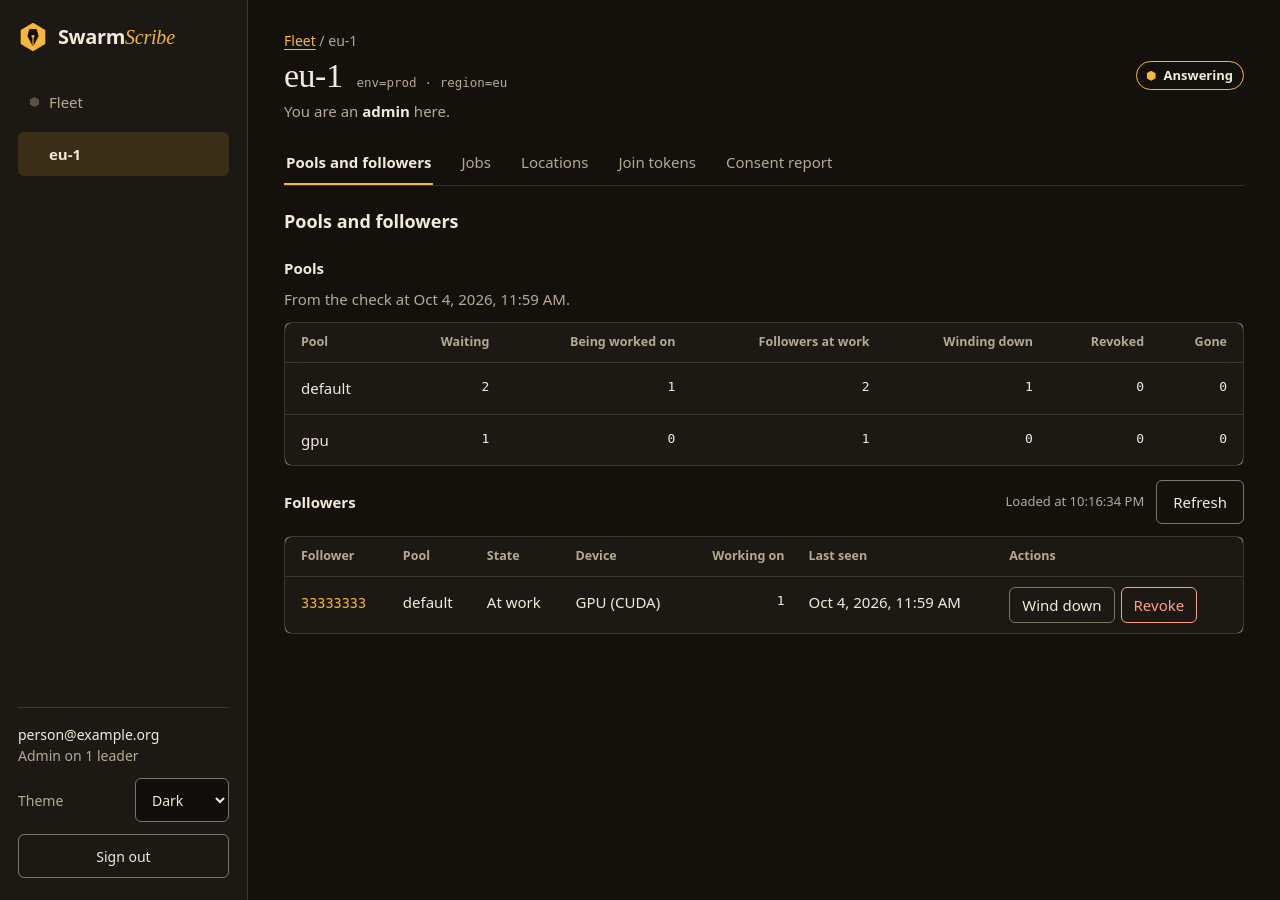
Test case: pools and followers tab › says one job, not 1 jobs, when a revoked follower held one
Click the button with aria-label "Revoke follower 33333333" at (1159, 605), box [1120,587,1197,623]
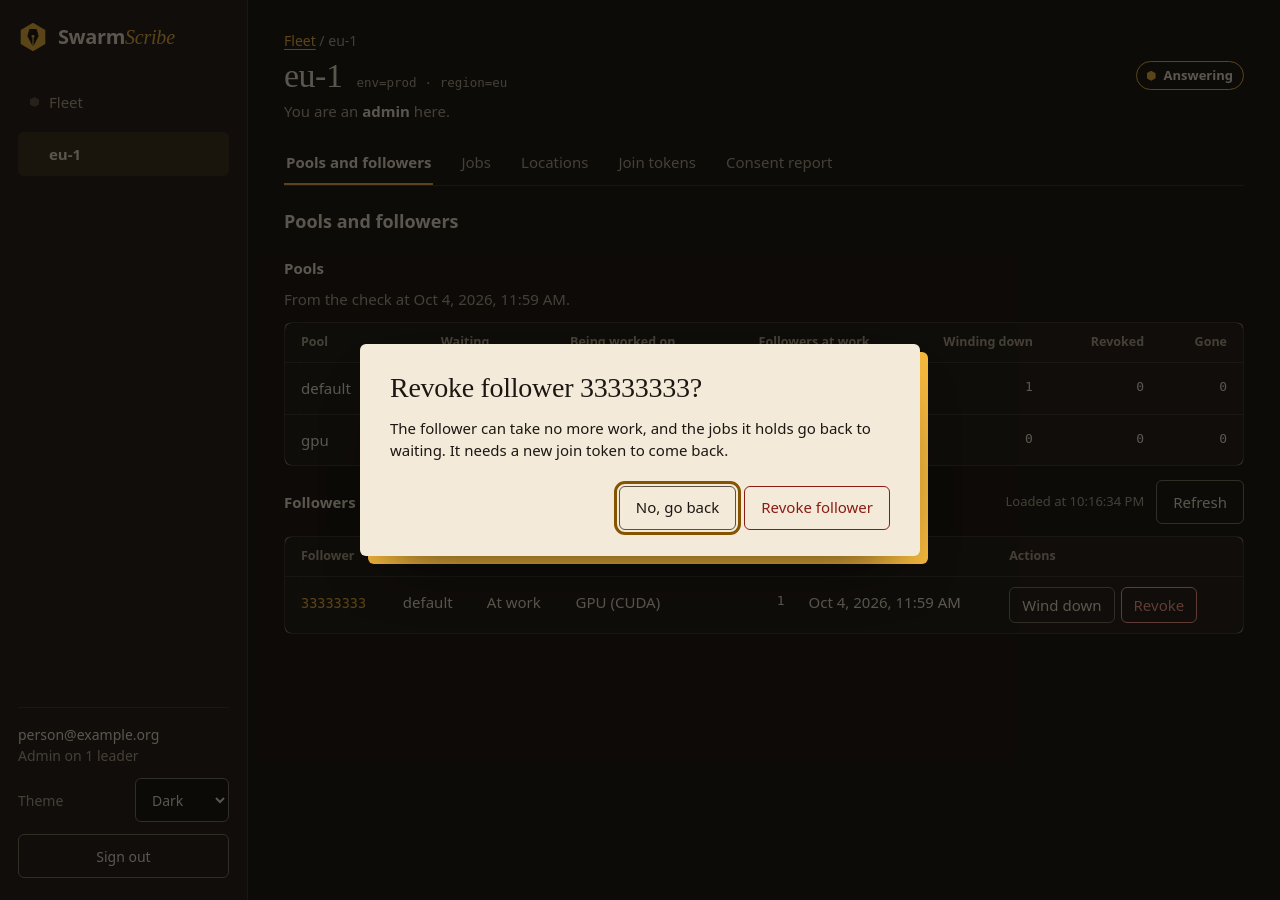
Click the button "Revoke follower" at (817, 508), box [744,486,890,530]
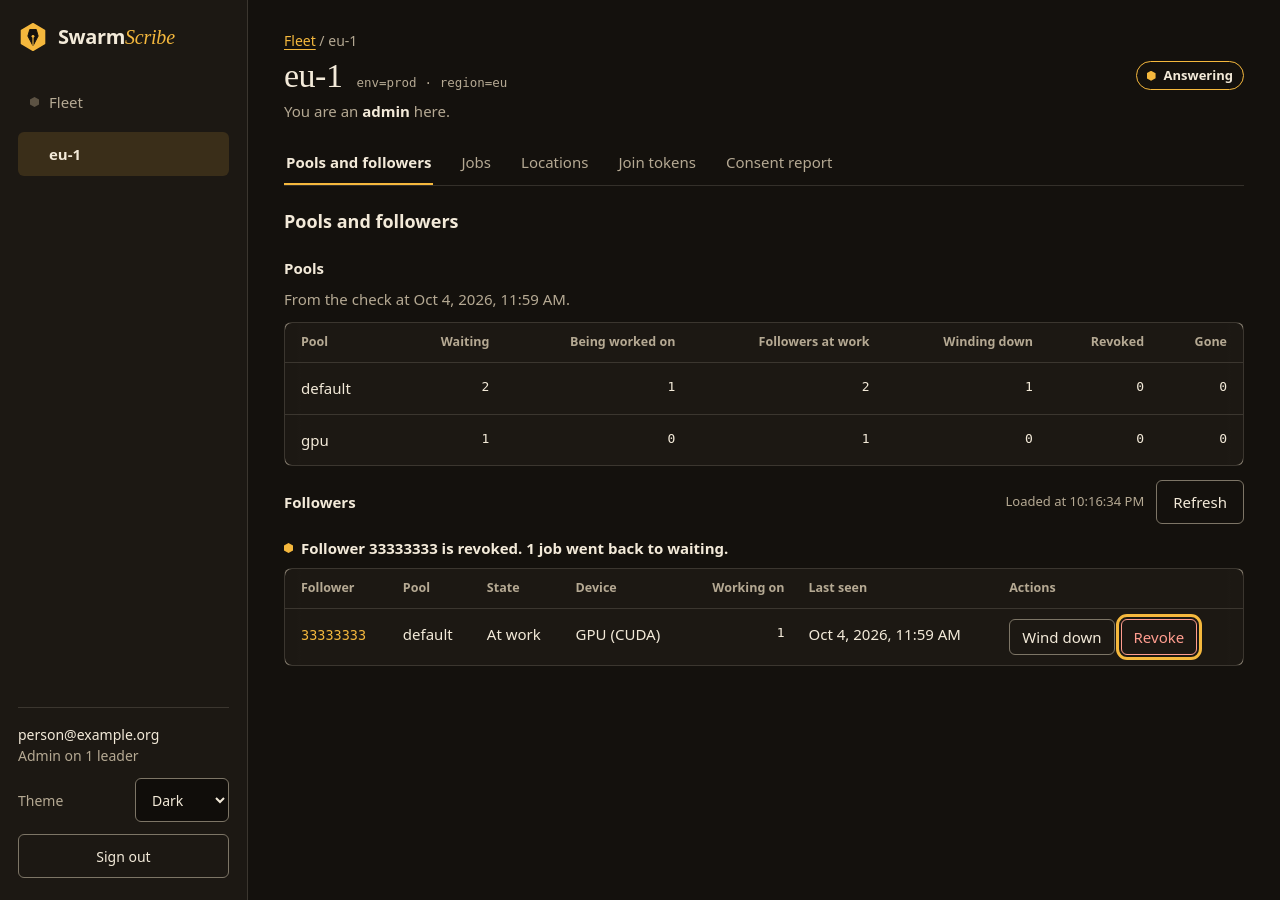
Expected: the text "Follower 33333333 is revoked. 1 job went back to waiting." is shown, [301,538,728,558]
